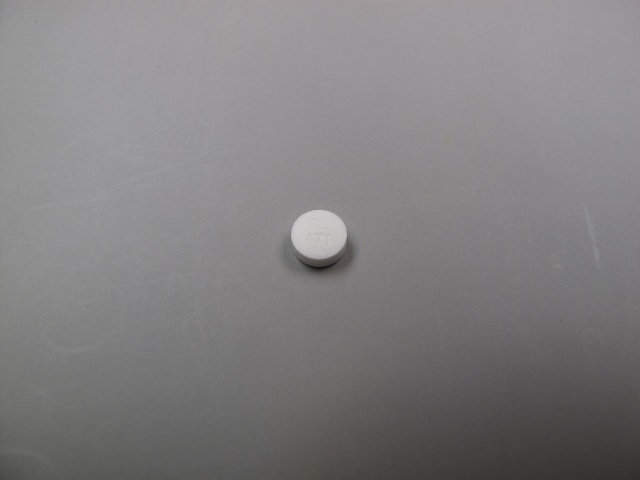1: (304, 231, 314, 248), (323, 231, 331, 249)
7: (315, 231, 323, 249)
L: (318, 216, 333, 231)
T: (308, 216, 316, 230)
